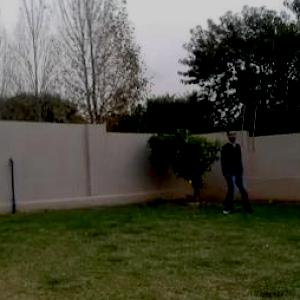follow: (222, 125, 245, 216)
